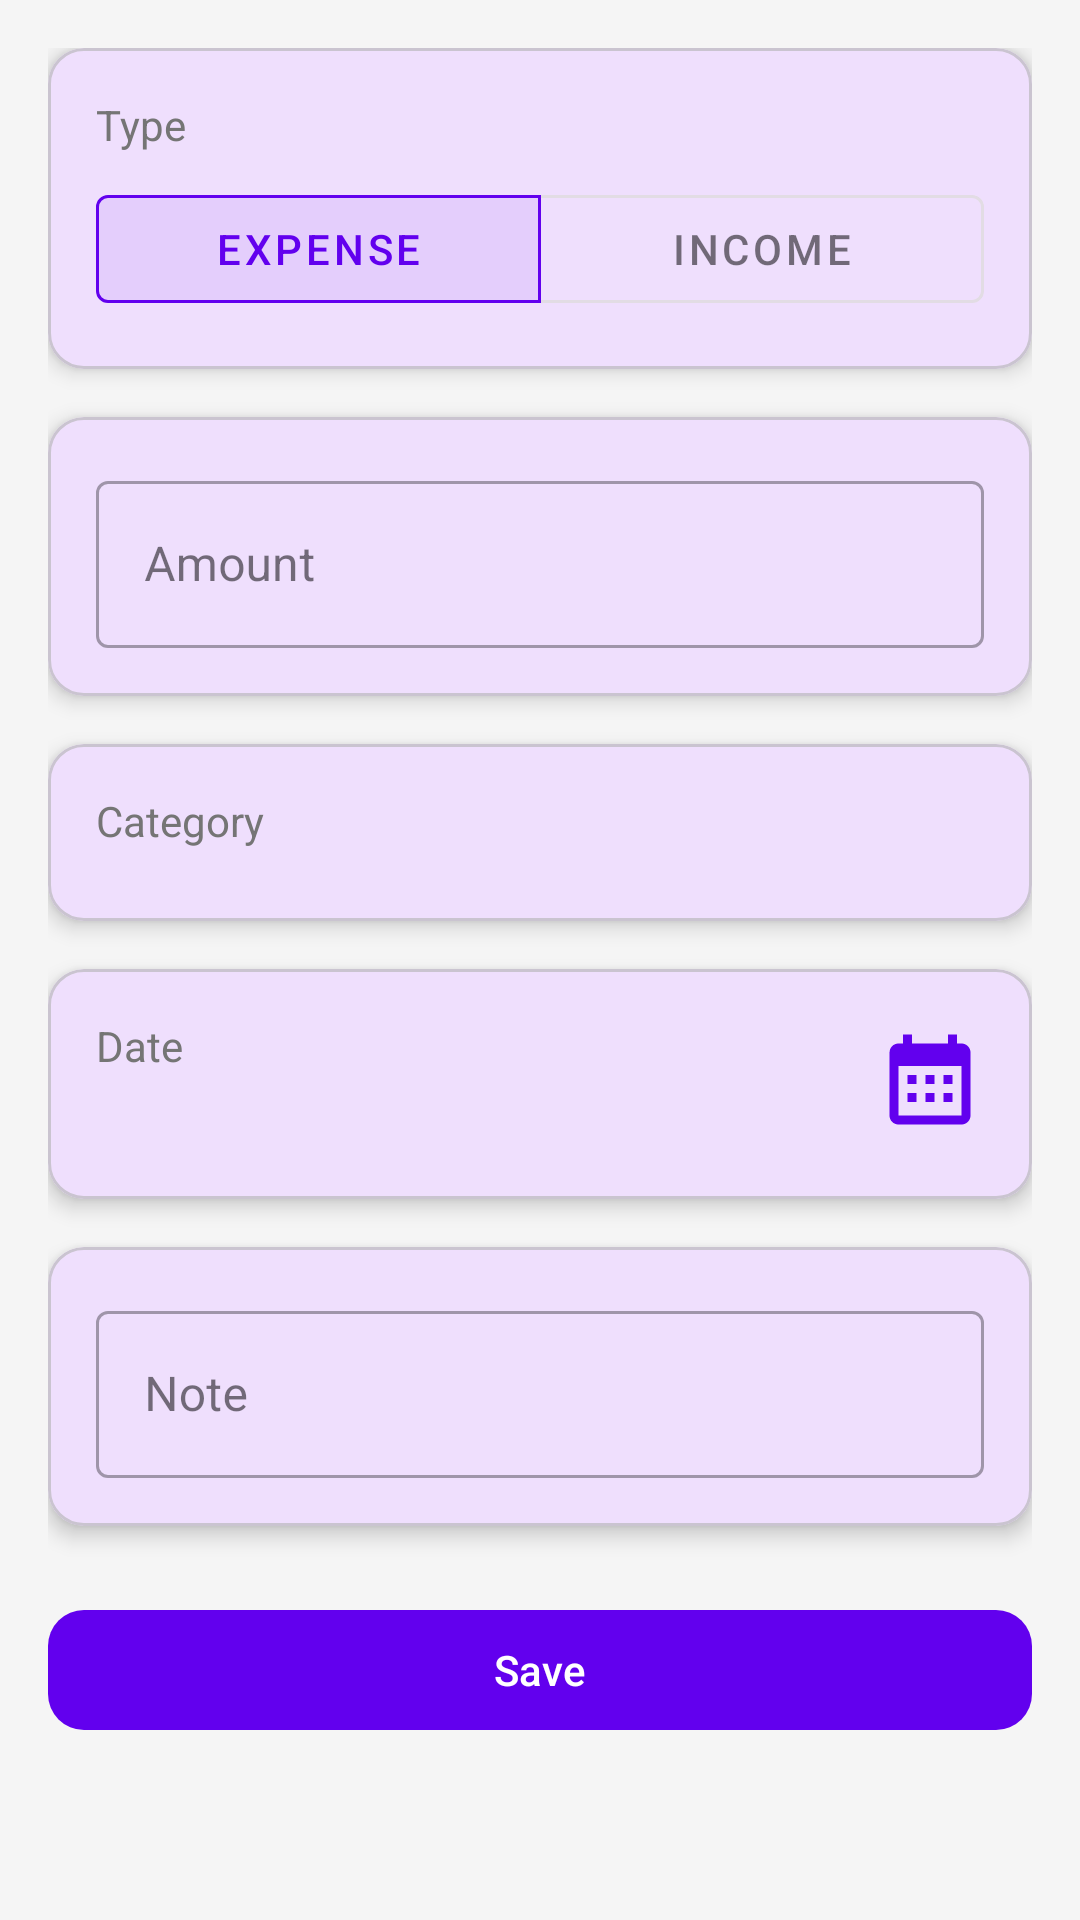

Point at icon controls on the screen. Image size 1080px×1920px, points as (x,y).
Select date: (930,1079)
